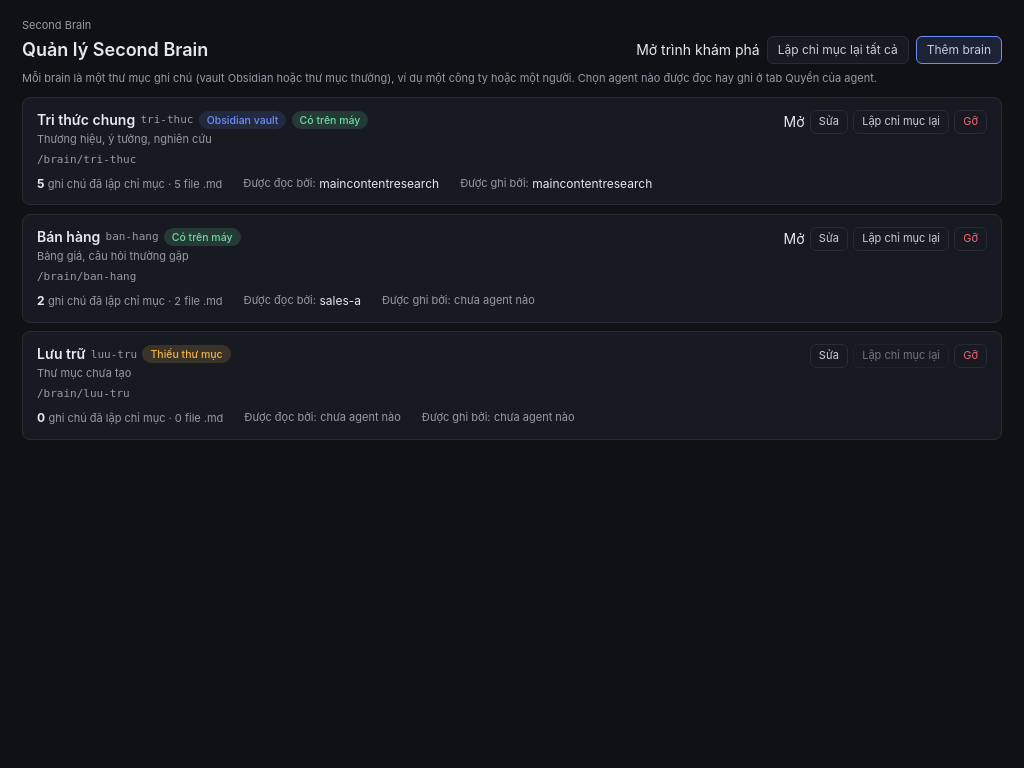
Scenario: brain management and skills admin (mock api) › asks before removing and says files stay
The width and height of the screenshot is (1024, 768).
Click the button "Gỡ" in the row of "Bán hàng".
click(971, 239)  # box [954, 227, 987, 251]
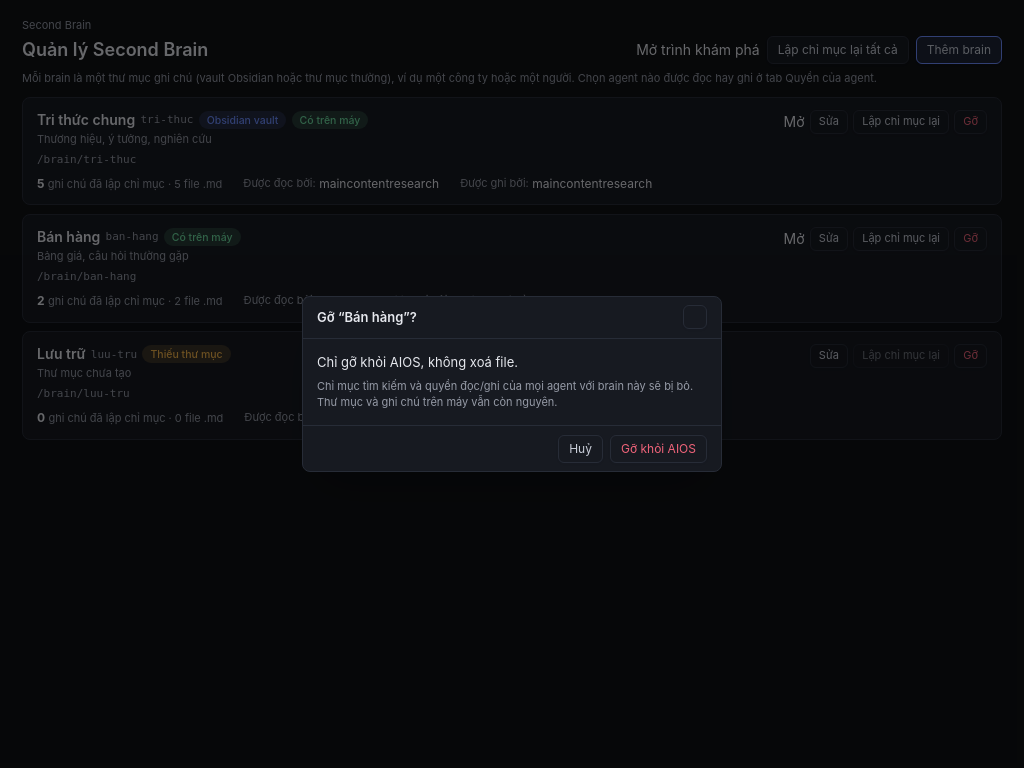
Result: the text "Chỉ gỡ khỏi AIOS, không xoá file" is shown at [317, 354, 518, 370]
